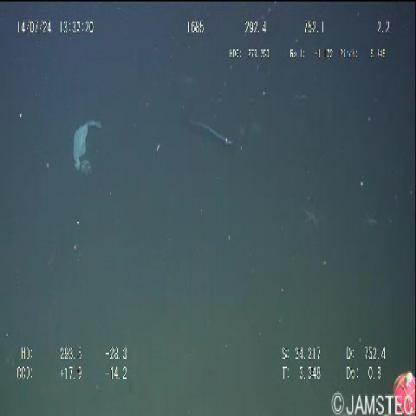Rác: (72, 119, 104, 176)
